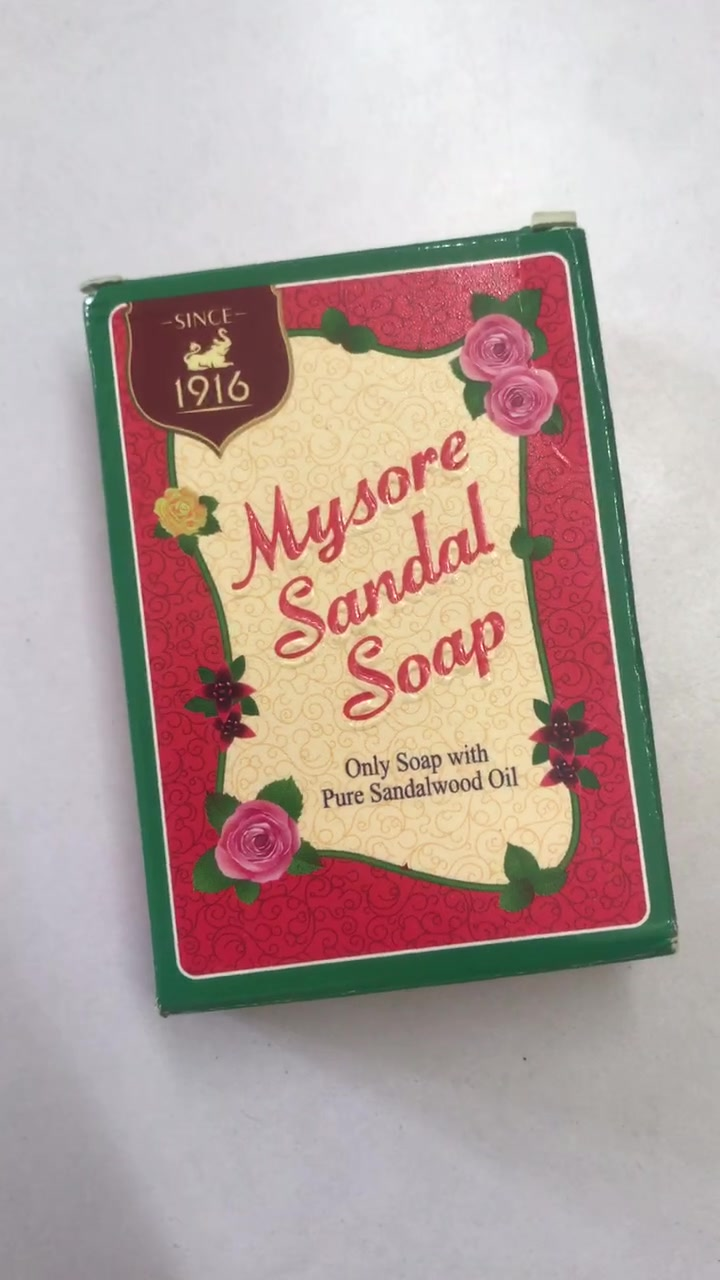mysore sandal soap: (96, 246, 674, 993)
